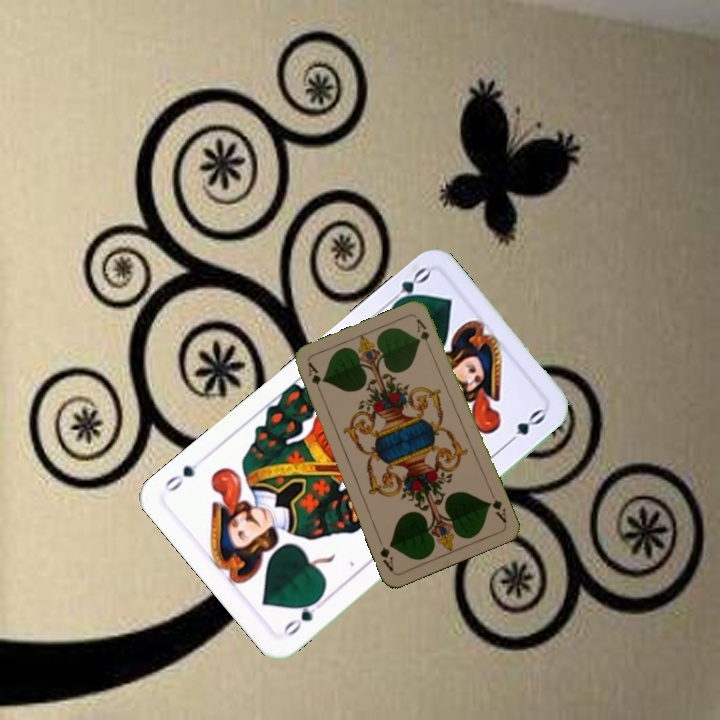GA: (484, 488, 509, 526), (304, 359, 325, 398)
GO: (382, 263, 433, 312), (278, 592, 325, 639)
